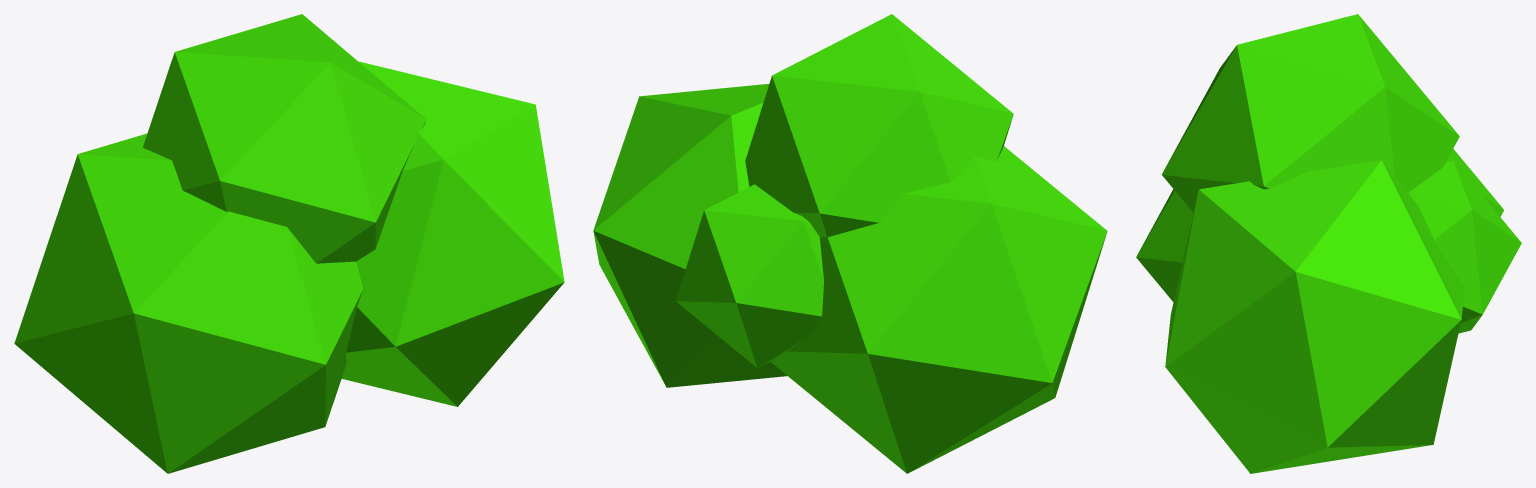
The picture shows the model from 3 angles, left to right: view 1: azimuth 30°, elevation 25°; view 2: azimuth 150°, elevation 25°; view 3: azimuth 270°, elevation 25°; orthographic projection. The views are drawn at different scales.
Parts seen in each view (by area): view 1: Icosphere.002, Icosphere, Icosphere.001; view 2: Icosphere.002, Icosphere.001, Icosphere, Icosphere.003; view 3: Icosphere, Icosphere.001, Icosphere.003, Icosphere.002.
Part boxes in pixels (box(x1,y1,x2,y2)): Icosphere.002: box(14, 133, 363, 473); Icosphere: box(341, 61, 564, 406); Icosphere.001: box(143, 14, 426, 263); Icosphere.002: box(770, 146, 1107, 473); Icosphere.001: box(745, 14, 1013, 237); Icosphere: box(593, 84, 786, 387); Icosphere.003: box(676, 184, 823, 368); Icosphere: box(1165, 160, 1464, 473); Icosphere.001: box(1161, 14, 1459, 212); Icosphere.003: box(1409, 161, 1521, 333); Icosphere.002: box(1136, 149, 1503, 301).
Size of the model in its own units: 517 by 385 by 358.
